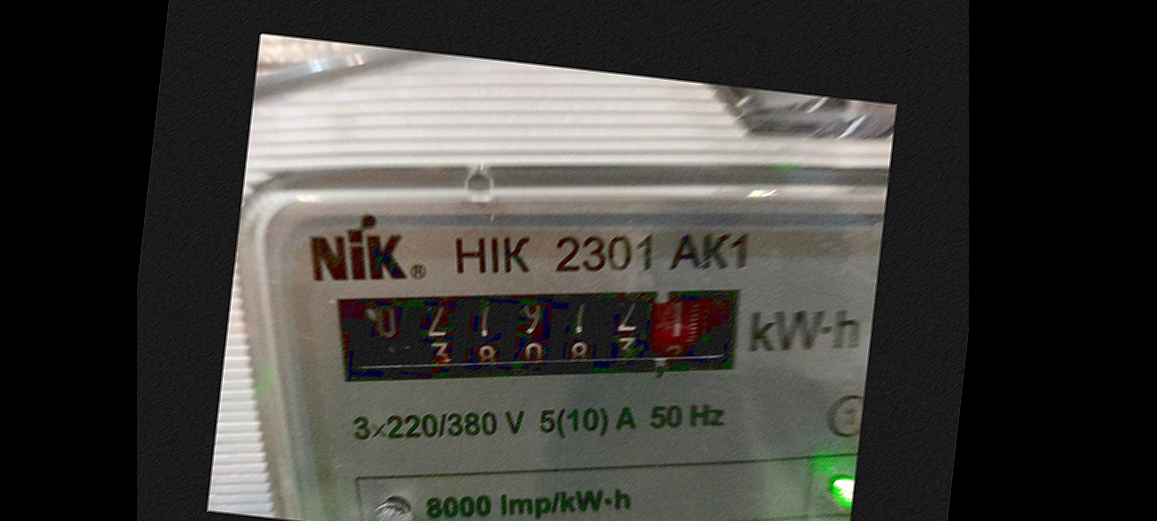0: (372, 299, 404, 338)
1: (666, 295, 693, 340)
2: (421, 296, 454, 338), (613, 293, 645, 333)
7: (565, 293, 596, 337), (471, 299, 498, 338)
9: (519, 297, 549, 335)
screen: (312, 233, 778, 436)
